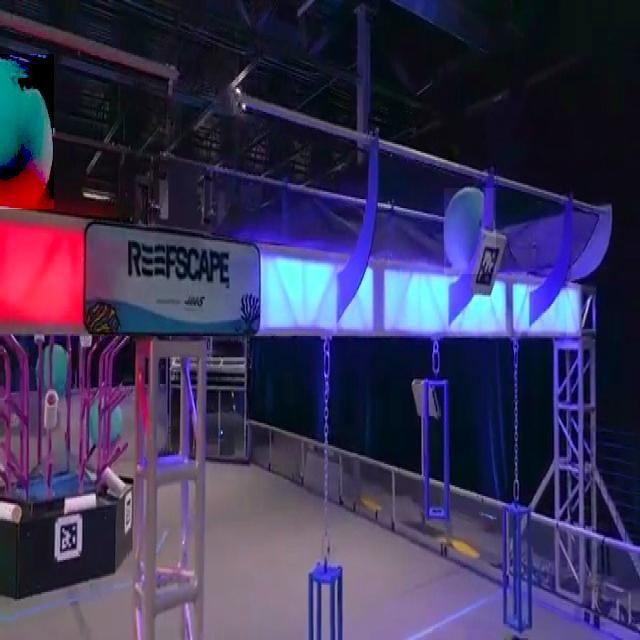Algae: (0, 54, 54, 209), (444, 188, 496, 274)
